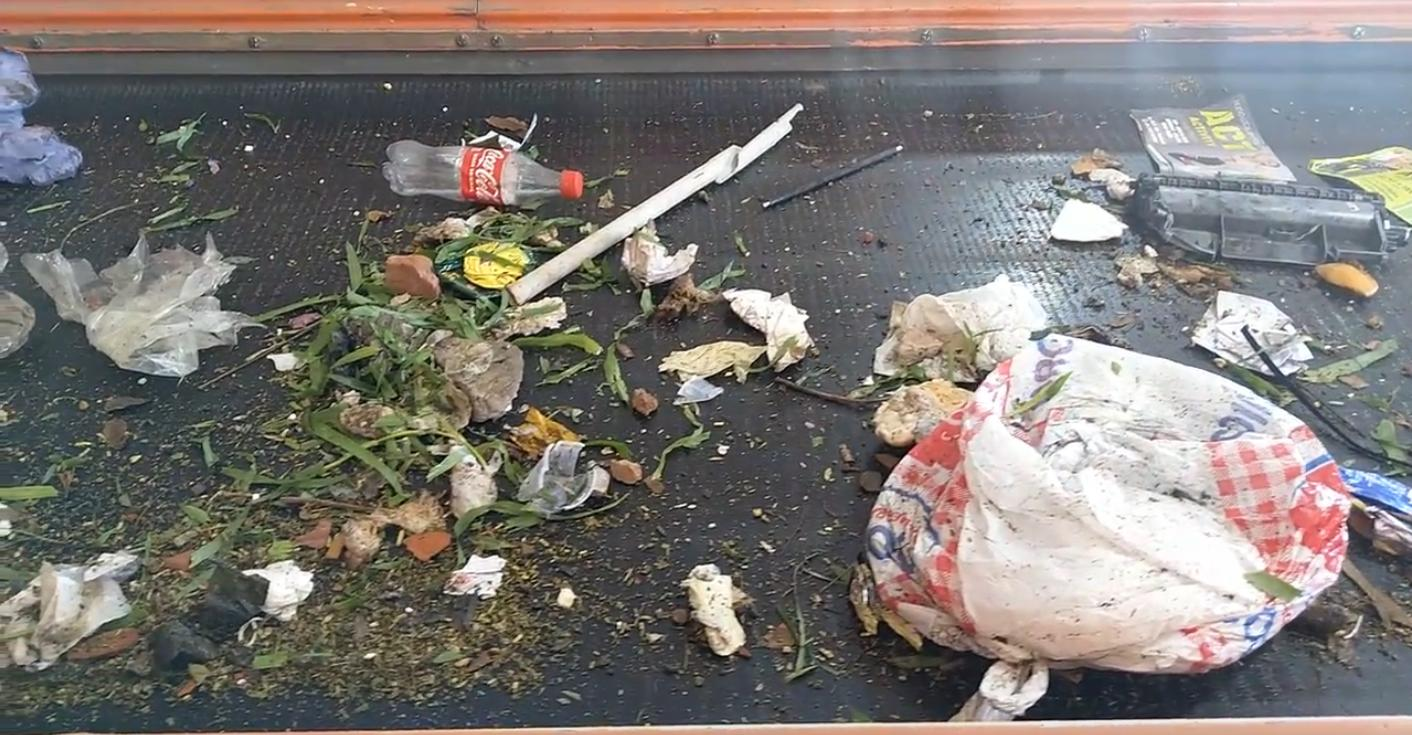bottle: (378, 137, 599, 218)
